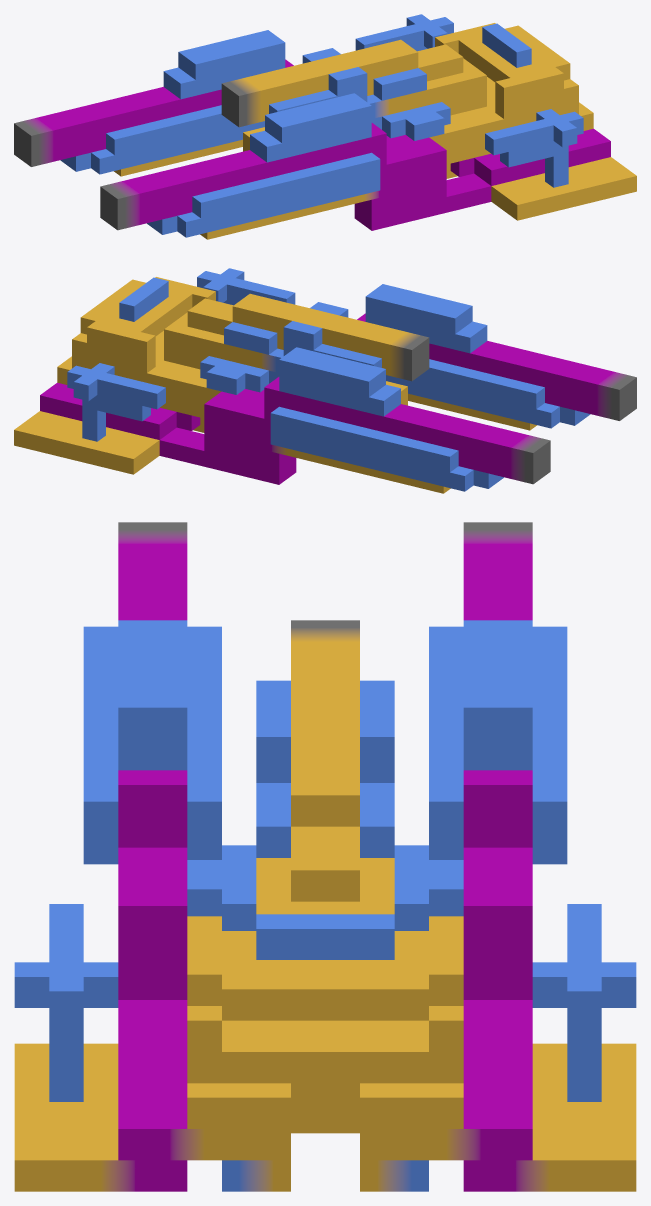
Rendered from Player_8.fbx.
3 views of the same model, one above another, from view 1: azimuth 30°, elevation 25°; view 2: azimuth 150°, elevation 25°; view 3: azimuth 270°, elevation 25° (orthographic). The views are drawn at different scales.
Parts seen in each view (by area): view 1: Player_8; view 2: Player_8; view 3: Player_8.
Boxes of the visible parts, x1,y1,x2,y2 form: Player_8: [14, 14, 636, 239]; Player_8: [14, 268, 636, 493]; Player_8: [14, 522, 636, 1191].
Size of the model in its own units: 33 by 8 by 18.
1 material, 1 textured.
